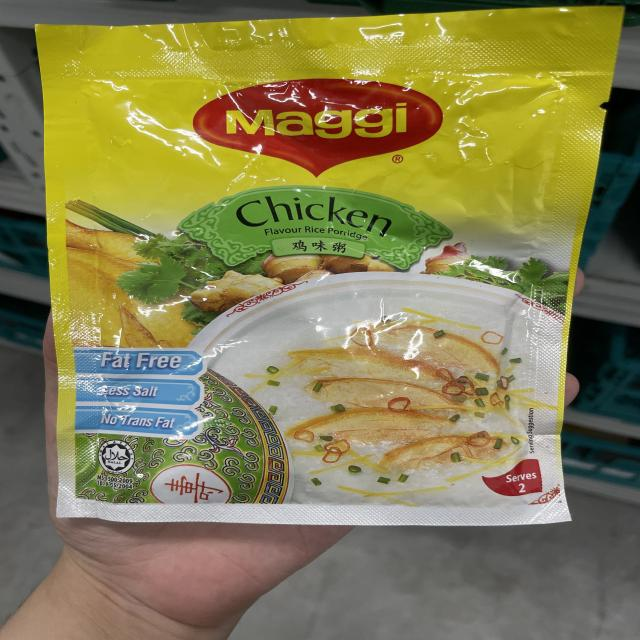object_name: (37, 25, 557, 525)
